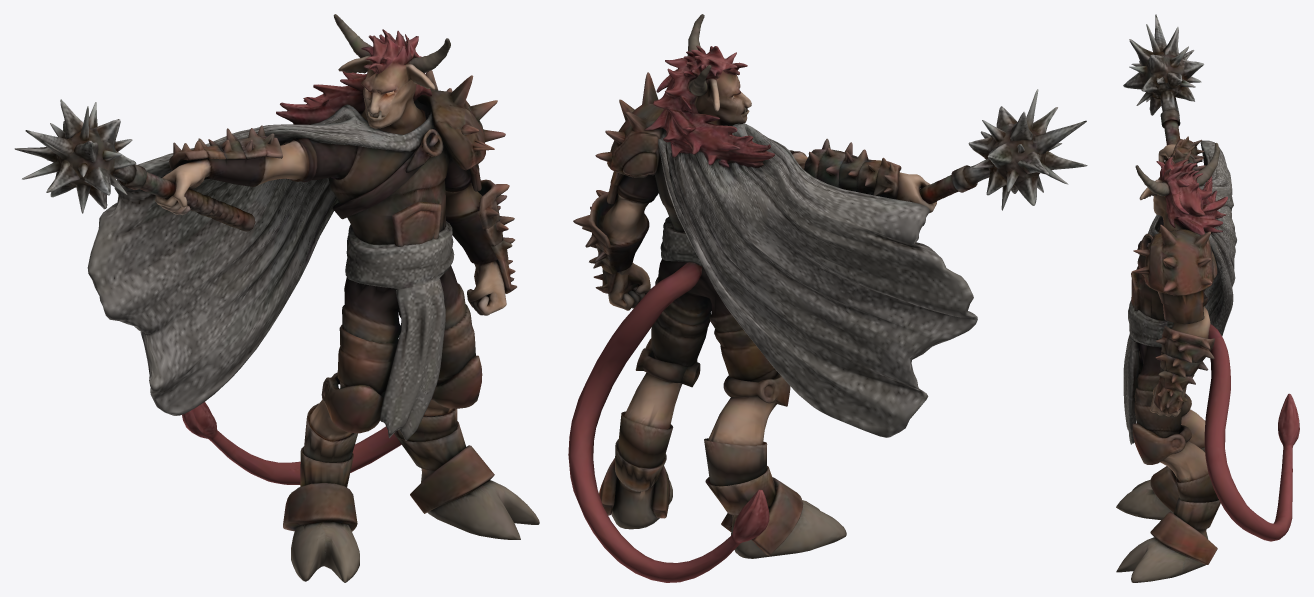
File: MZ4250 - Bael.glb
3 views of the same model, side by side, from view 1: azimuth 30°, elevation 25°; view 2: azimuth 150°, elevation 25°; view 3: azimuth 270°, elevation 25° (orthographic). The views are drawn at different scales.
Parts seen in each view (by area): view 1: Sphere.001; view 2: Sphere.001; view 3: Sphere.001.
Part boxes in pixels (left/top/right/bottom): Sphere.001: left=14, top=14, right=539, bottom=582; Sphere.001: left=568, top=14, right=1087, bottom=582; Sphere.001: left=1116, top=14, right=1299, bottom=582.
Bounding box in the file's own units: 1.98 × 1.96 × 0.8268.
Materials: 1 (1 with a texture image).
